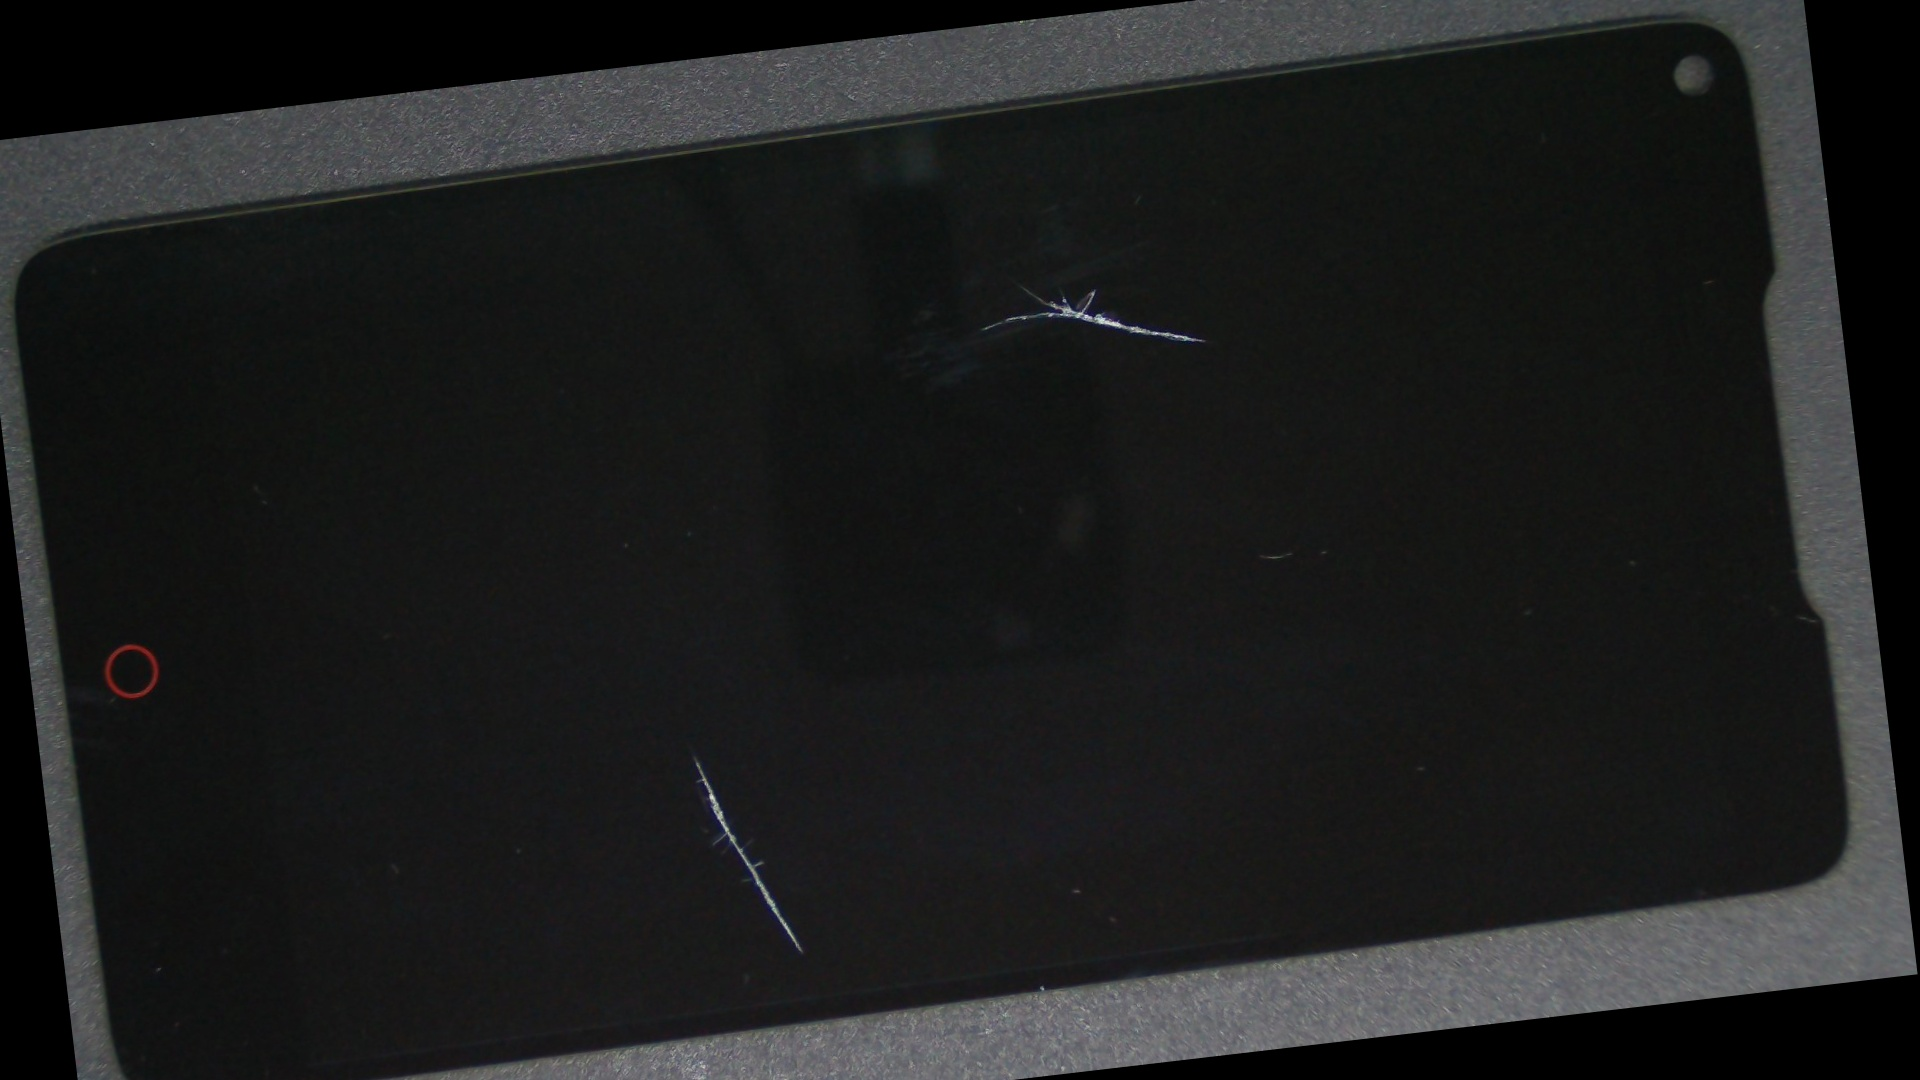oil: (332, 373, 1058, 1080), (496, 95, 1548, 477)
